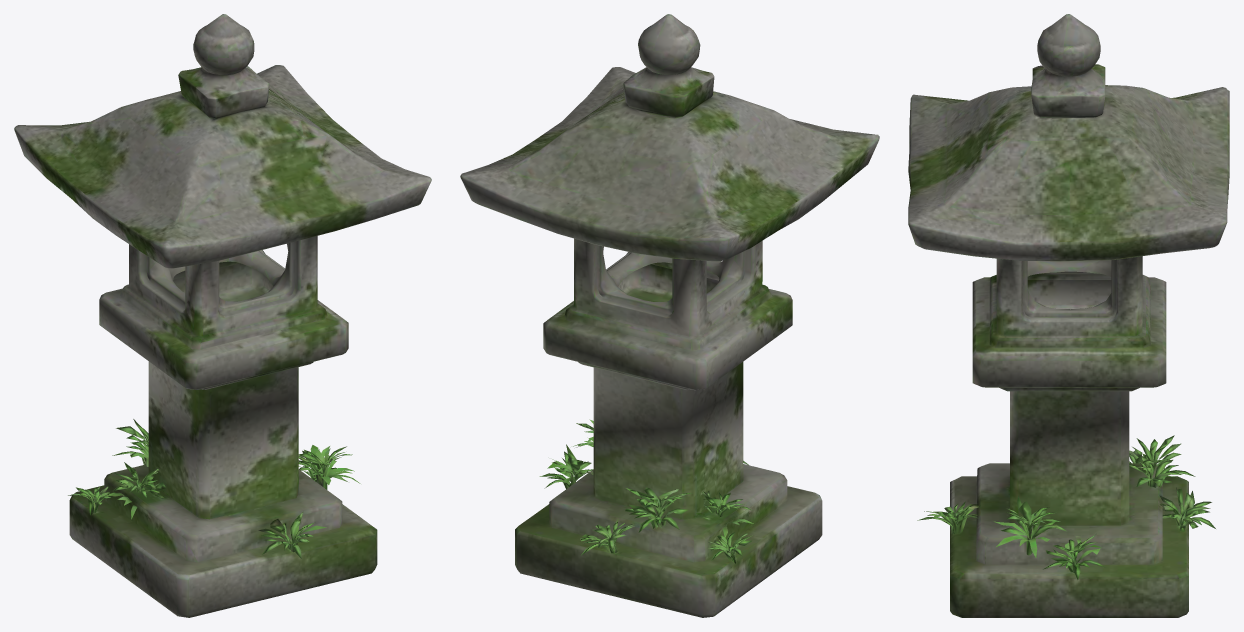
File: p_mok.glb
3 views of the same model, side by side, from view 1: azimuth 30°, elevation 25°; view 2: azimuth 150°, elevation 25°; view 3: azimuth 270°, elevation 25° (orthographic). The views are drawn at different scales.
Parts seen in each view (by area): view 1: tripo_node_7127c455-f099-458d-94e7-377107b78c36; view 2: tripo_node_7127c455-f099-458d-94e7-377107b78c36; view 3: tripo_node_7127c455-f099-458d-94e7-377107b78c36.
Part boxes in pixels (x1,y1,x2,y2): tripo_node_7127c455-f099-458d-94e7-377107b78c36: (14,14,431,617); tripo_node_7127c455-f099-458d-94e7-377107b78c36: (460,14,879,617); tripo_node_7127c455-f099-458d-94e7-377107b78c36: (908,14,1229,617).
Bounding box in the file's own units: 0.5254 × 0.998 × 0.5254.
1 material, 1 textured.
